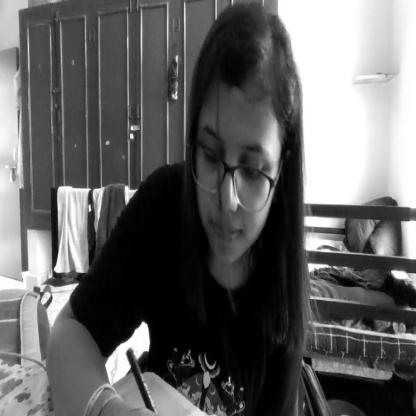Normal: (194, 0, 300, 280)
